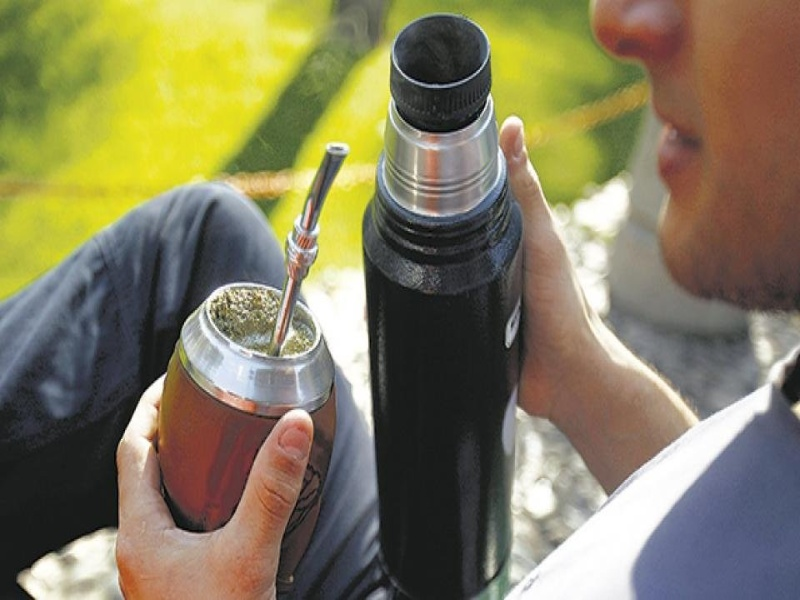guampa: (169, 153, 355, 552)
